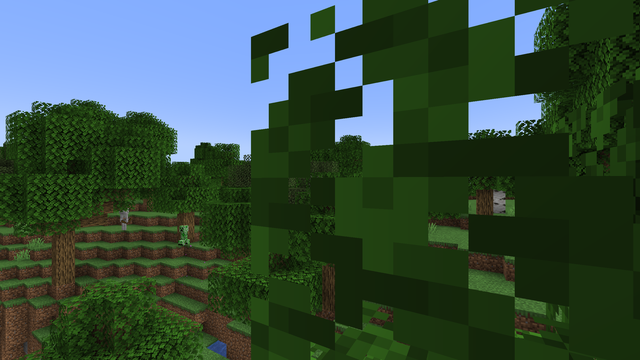creepers: (178, 224, 188, 245)
squelettes: (118, 213, 128, 230)
